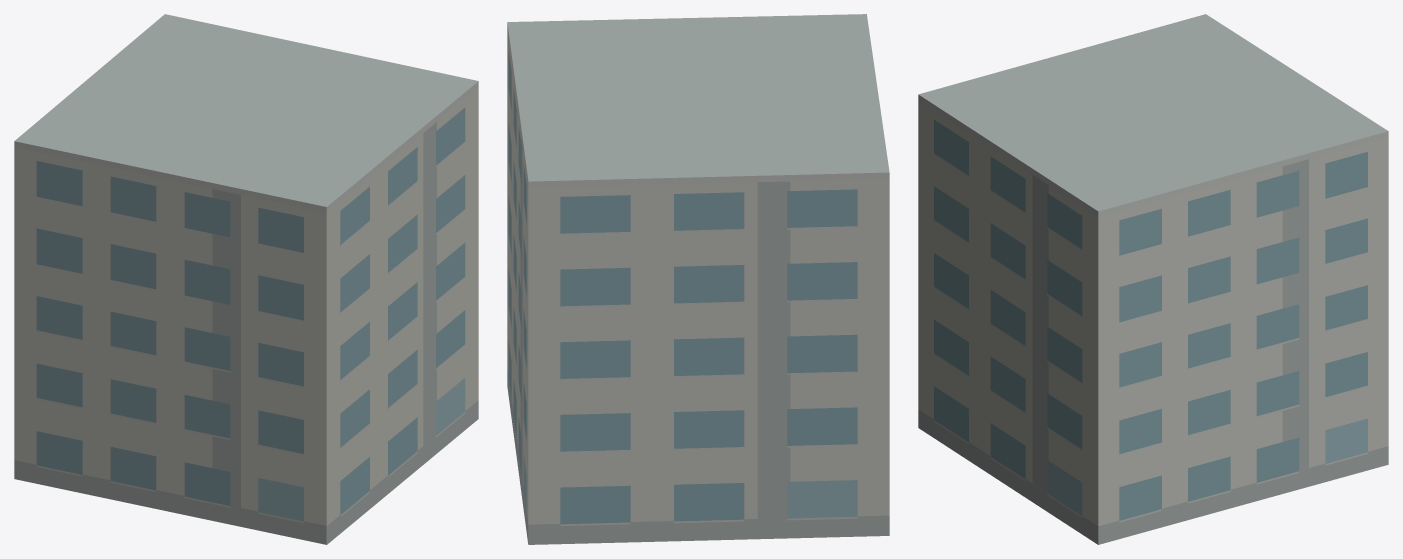
File: survey-upis-32963891.glb
3 renders of one model, left to right at view 1: azimuth 30°, elevation 25°; view 2: azimuth 150°, elevation 25°; view 3: azimuth 270°, elevation 25°, orthographic. The views are drawn at different scales.
Parts seen in each view (by area): view 1: survey-upis-32963891.tmp; view 2: survey-upis-32963891.tmp; view 3: survey-upis-32963891.tmp.
Part boxes in pixels (x1=…): survey-upis-32963891.tmp: x1=14, y1=14, x2=478, y2=544; survey-upis-32963891.tmp: x1=507, y1=14, x2=889, y2=544; survey-upis-32963891.tmp: x1=918, y1=14, x2=1388, y2=544.
Bounding box in the file's own units: 17.37 × 13.67 × 17.48.
